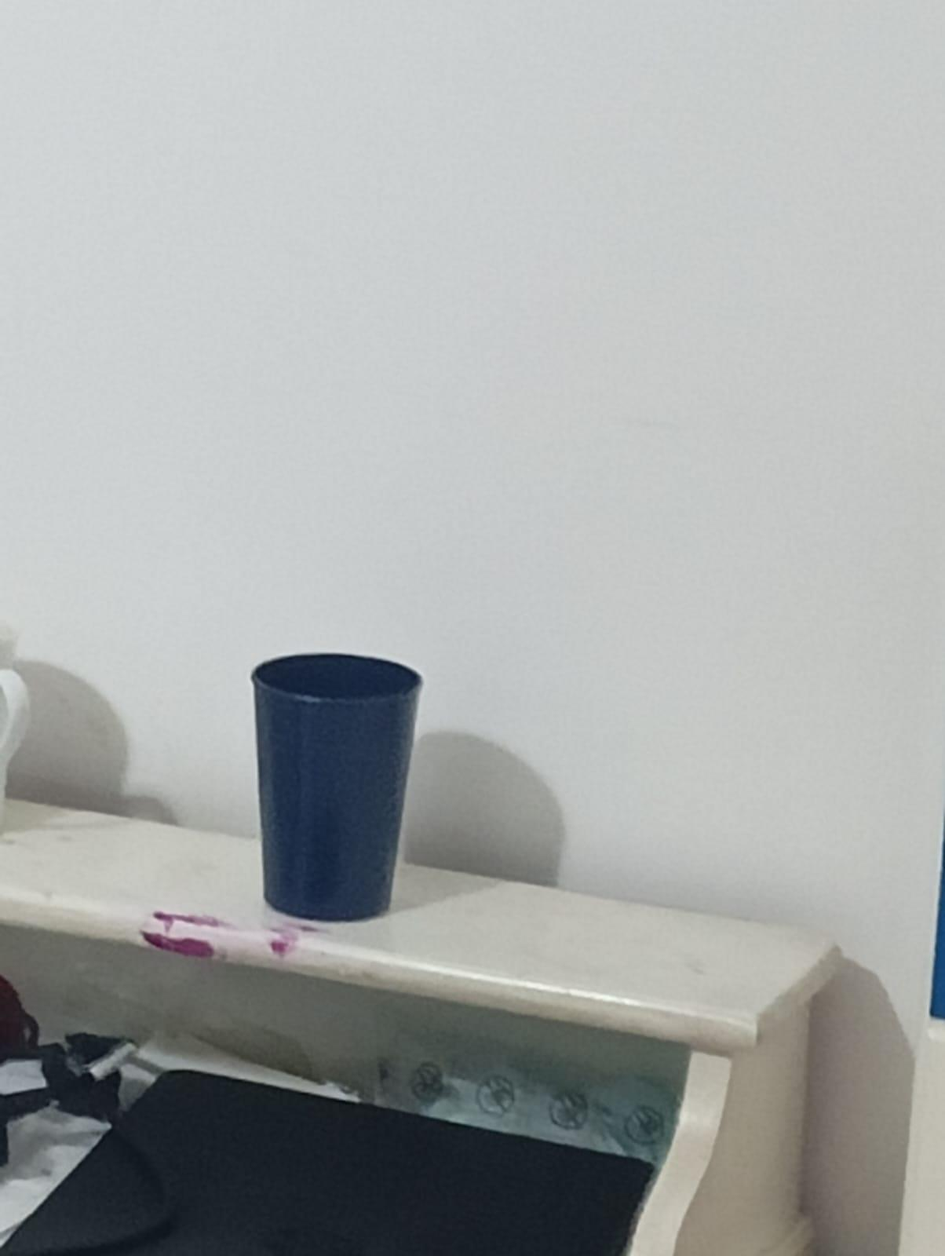cup: (252, 655, 421, 920), (0, 623, 28, 830)
